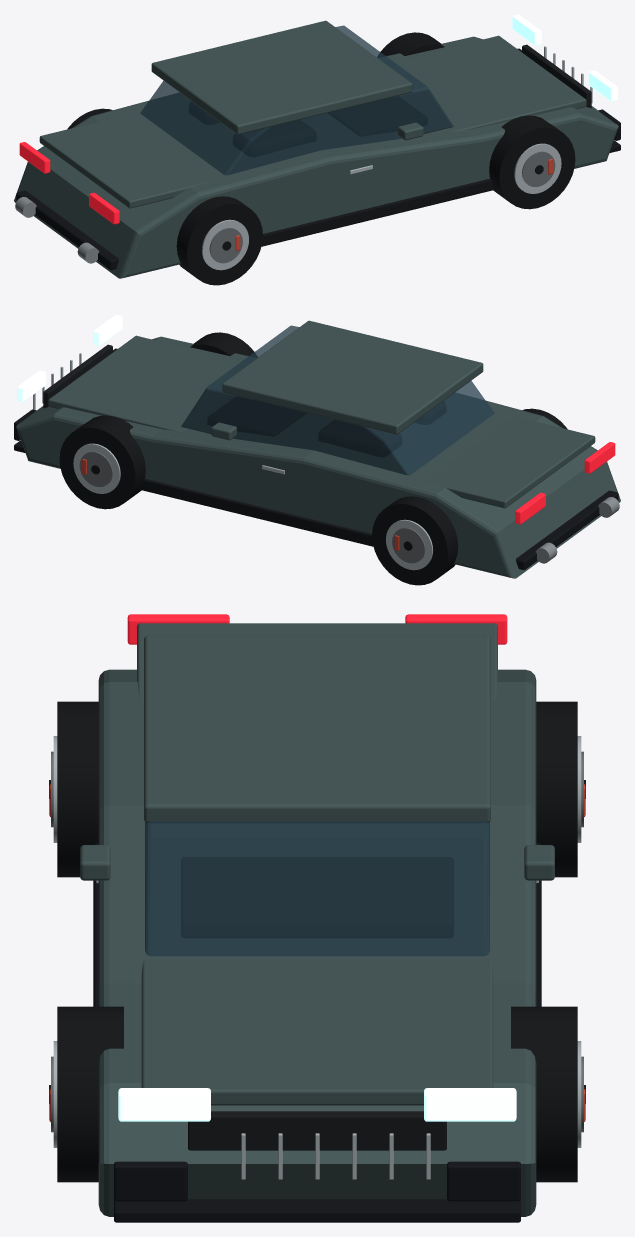
The model's file is chevy_chevrolet_classic.glb.
3 views of the same model, one above another, from view 1: azimuth 30°, elevation 25°; view 2: azimuth 150°, elevation 25°; view 3: azimuth 270°, elevation 25° (orthographic). The views are drawn at different scales.
Parts seen in each view (by area): view 1: sculpted_body, roof, glasshouse, hood_center, rear_deck, front_right_wheel_tire, rear_right_wheel_tire, side_skirt_1, dashboard, seat_1, rear_diffuser, front_left_wheel_tire (+9 smaller); view 2: sculpted_body, roof, glasshouse, hood_center, rear_deck, front_left_wheel_tire, rear_left_wheel_tire, side_skirt_-1, dashboard, seat_-1, rear_diffuser, front_right_wheel_tire (+9 smaller); view 3: sculpted_body, roof, hood_center, glasshouse, dashboard, front_grille, front_splitter, front_left_wheel_tire, front_right_wheel_tire, rear_left_wheel_tire, rear_right_wheel_tire, rear_deck (+8 smaller).
Part boxes in pixels (x1,y1,x2,y2): sculpted_body: (14, 36, 618, 278); roof: (151, 20, 412, 134); glasshouse: (140, 25, 453, 175); hood_center: (386, 35, 586, 131); rear_deck: (39, 116, 209, 208); front_right_wheel_tire: (489, 115, 575, 209); rear_right_wheel_tire: (176, 196, 262, 285); side_skirt_1: (261, 178, 495, 246); dashboard: (328, 96, 426, 135); seat_1: (233, 120, 315, 156); rear_diffuser: (16, 190, 118, 269); front_left_wheel_tire: (377, 32, 444, 57); sculpted_body: (16, 336, 620, 578); roof: (222, 320, 483, 434); glasshouse: (181, 325, 494, 475); hood_center: (48, 335, 248, 431); rear_deck: (425, 416, 595, 508); front_left_wheel_tire: (59, 415, 145, 509); rear_left_wheel_tire: (372, 496, 458, 585); side_skirt_-1: (139, 478, 373, 546); dashboard: (208, 396, 306, 435); seat_-1: (319, 420, 401, 456); rear_diffuser: (516, 490, 618, 569); front_right_wheel_tire: (190, 332, 257, 357); sculpted_body: (98, 669, 536, 1216); roof: (144, 635, 490, 822); hood_center: (141, 959, 493, 1105); glasshouse: (145, 821, 489, 956); dashboard: (181, 857, 453, 937); front_grille: (188, 1111, 446, 1150); front_splitter: (114, 1199, 520, 1222); front_left_wheel_tire: (511, 1006, 577, 1182); front_right_wheel_tire: (57, 1006, 123, 1182); rear_left_wheel_tire: (536, 701, 577, 877); rear_right_wheel_tire: (57, 701, 98, 877); rear_deck: (137, 623, 497, 701).
Size of the model in its own units: 5.09 by 1.25 by 2.26.
